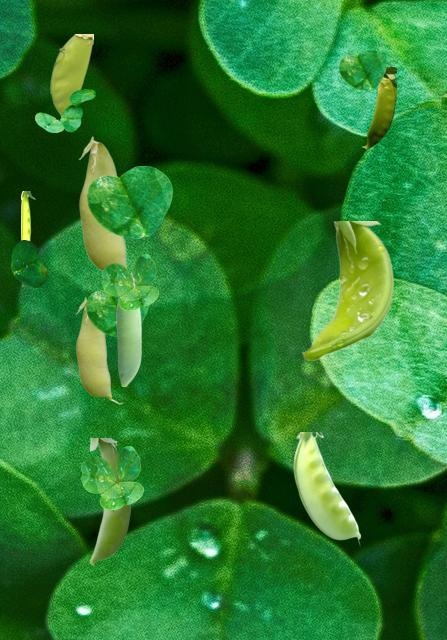pea: (301, 221, 392, 359), (293, 432, 359, 545), (78, 136, 127, 270), (75, 297, 122, 403), (90, 438, 129, 564), (50, 34, 92, 115), (361, 67, 395, 148), (116, 272, 140, 385), (21, 191, 34, 285)
